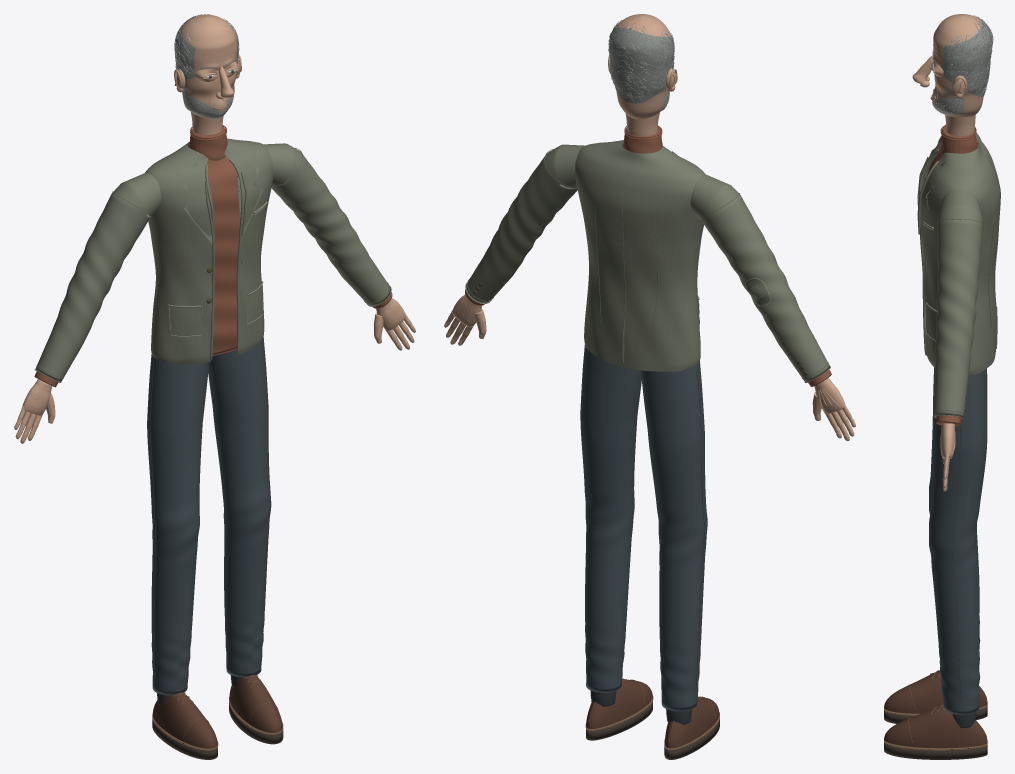
The picture shows the model from 3 angles, left to right: view 1: azimuth 30°, elevation 25°; view 2: azimuth 150°, elevation 25°; view 3: azimuth 270°, elevation 25°; orthographic projection. The views are drawn at different scales.
Parts seen in each view (by area): view 1: Left trouser leg • pressed and eased, Jacket shell • open front, structured shoulders, Right trouser leg • pressed and eased, Left shaped jacket sleeve, Right shaped jacket sleeve, Soft merino underlayer, Head • long aged craniofacial sculpt, Left shoe sculpted leather upper, Right shoe sculpted leather upper, Left jacket hip patch pocket, Soft ribbed mock neck • thick folded edge, Receding side and back hair foundation (+1 smaller); view 2: Jacket shell • open front, structured shoulders, Left trouser leg • pressed and eased, Right trouser leg • pressed and eased, Left shaped jacket sleeve, Right shaped jacket sleeve, Receding side and back hair foundation, Right shoe sculpted leather upper, Head • long aged craniofacial sculpt, Left shoe sculpted leather upper, Combed-back fine pewter hair strands, Left hand • broad metacarpal structure, Right shoe sole; view 3: Right trouser leg • pressed and eased, Right shaped jacket sleeve, Jacket shell • open front, structured shoulders, Right shoe sculpted leather upper, Receding side and back hair foundation, Head • long aged craniofacial sculpt, Left shoe sculpted leather upper, Right shoe sole, Combed-back fine pewter hair strands, Soft ribbed mock neck • thick folded edge, Visible neck, Left trouser leg • pressed and eased (+11 smaller).
Boxes of the visible parts, bbox=[...] form: Left trouser leg • pressed and eased: bbox=[147, 354, 209, 695]; Jacket shell • open front, structured shoulders: bbox=[145, 138, 273, 364]; Right trouser leg • pressed and eased: bbox=[208, 337, 271, 677]; Left shaped jacket sleeve: bbox=[35, 172, 161, 382]; Right shaped jacket sleeve: bbox=[264, 143, 390, 305]; Soft merino underlayer: bbox=[207, 155, 240, 355]; Head • long aged craniofacial sculpt: bbox=[181, 14, 237, 118]; Left shoe sculpted leather upper: bbox=[152, 692, 217, 748]; Right shoe sculpted leather upper: bbox=[229, 675, 282, 732]; Left jacket hip patch pocket: bbox=[168, 306, 202, 336]; Soft ribbed mock neck • thick folded edge: bbox=[189, 126, 227, 160]; Receding side and back hair foundation: bbox=[175, 16, 238, 79]; Jacket shell • open front, structured shoulders: bbox=[575, 140, 704, 371]; Left trouser leg • pressed and eased: bbox=[641, 360, 707, 711]; Right trouser leg • pressed and eased: bbox=[580, 345, 641, 692]; Left shaped jacket sleeve: bbox=[690, 174, 830, 382]; Right shaped jacket sleeve: bbox=[465, 144, 584, 303]; Receding side and back hair foundation: bbox=[609, 25, 674, 103]; Right shoe sculpted leather upper: bbox=[586, 678, 652, 728]; Head • long aged craniofacial sculpt: bbox=[616, 14, 671, 119]; Left shoe sculpted leather upper: bbox=[665, 697, 719, 748]; Combed-back fine pewter hair strands: bbox=[608, 22, 674, 100]; Left hand • broad metacarpal structure: bbox=[814, 378, 844, 414]; Right shoe sole: bbox=[586, 701, 652, 740]; Right trouser leg • pressed and eased: bbox=[929, 369, 987, 715]; Right shaped jacket sleeve: bbox=[934, 189, 982, 419]; Jacket shell • open front, structured shoulders: bbox=[920, 136, 1000, 374]; Right shoe sculpted leather upper: bbox=[884, 705, 987, 748]; Receding side and back hair foundation: bbox=[943, 18, 992, 97]; Head • long aged craniofacial sculpt: bbox=[932, 14, 983, 116]; Left shoe sculpted leather upper: bbox=[884, 670, 987, 713]; Right shoe sole: bbox=[884, 742, 987, 759]; Combed-back fine pewter hair strands: bbox=[943, 15, 993, 95]; Soft ribbed mock neck • thick folded edge: bbox=[940, 125, 977, 156]; Visible neck: bbox=[945, 114, 975, 136]; Left trouser leg • pressed and eased: bbox=[929, 367, 987, 669].
Size of the model in its own units: 1.2 by 2.01 by 0.2967.
Materials: 26 (6 with a texture image).
